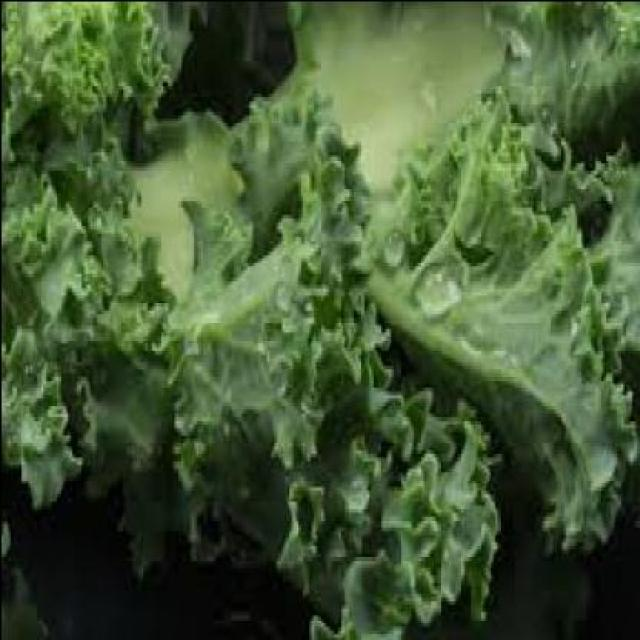BIODEGRADABLE: (0, 0, 638, 637), (76, 99, 490, 636), (240, 1, 638, 552), (2, 1, 185, 498)
